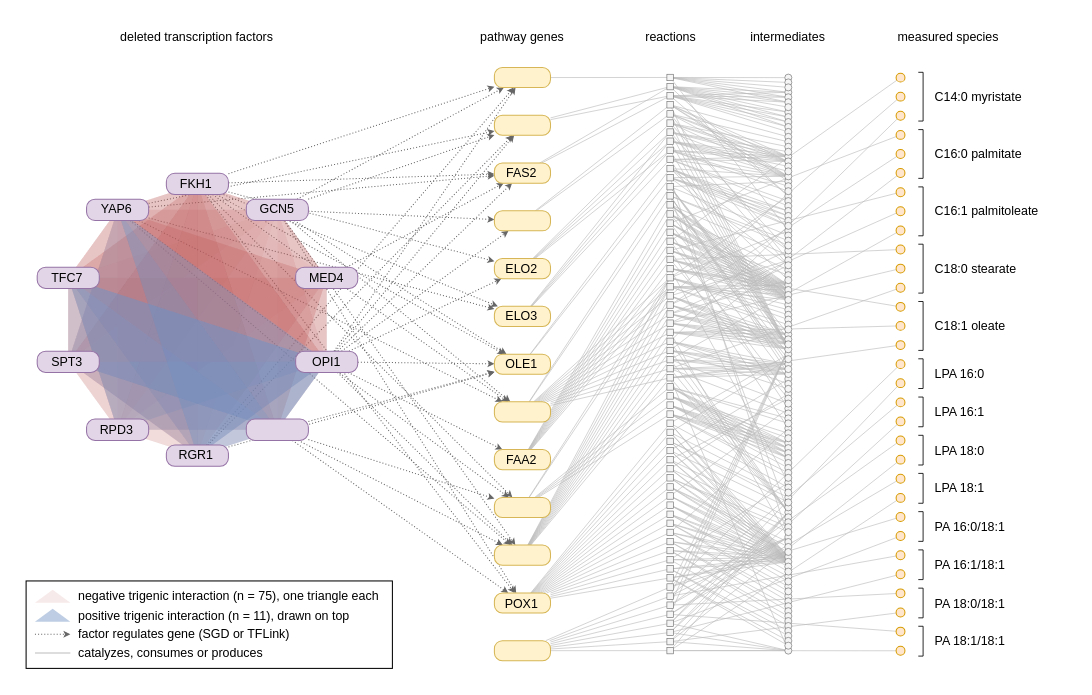
The diagram is 1092 pixels wide and 695 high, and some of its shapes have lost their labels. Each missing label, with the box of its shape:
ACC1: (493, 66, 550, 87)
ELO1: (493, 210, 550, 231)
FAA1: (493, 401, 550, 422)
FAA3: (493, 496, 550, 517)
FAA4: (493, 544, 550, 565)
FAS1: (493, 114, 550, 135)
RFX1: (245, 418, 308, 440)
SLC1: (493, 639, 550, 661)
